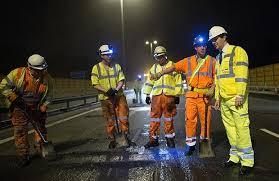safe person: (1, 52, 58, 171), (208, 23, 252, 170), (91, 43, 133, 147), (175, 31, 207, 158), (145, 46, 181, 151)
